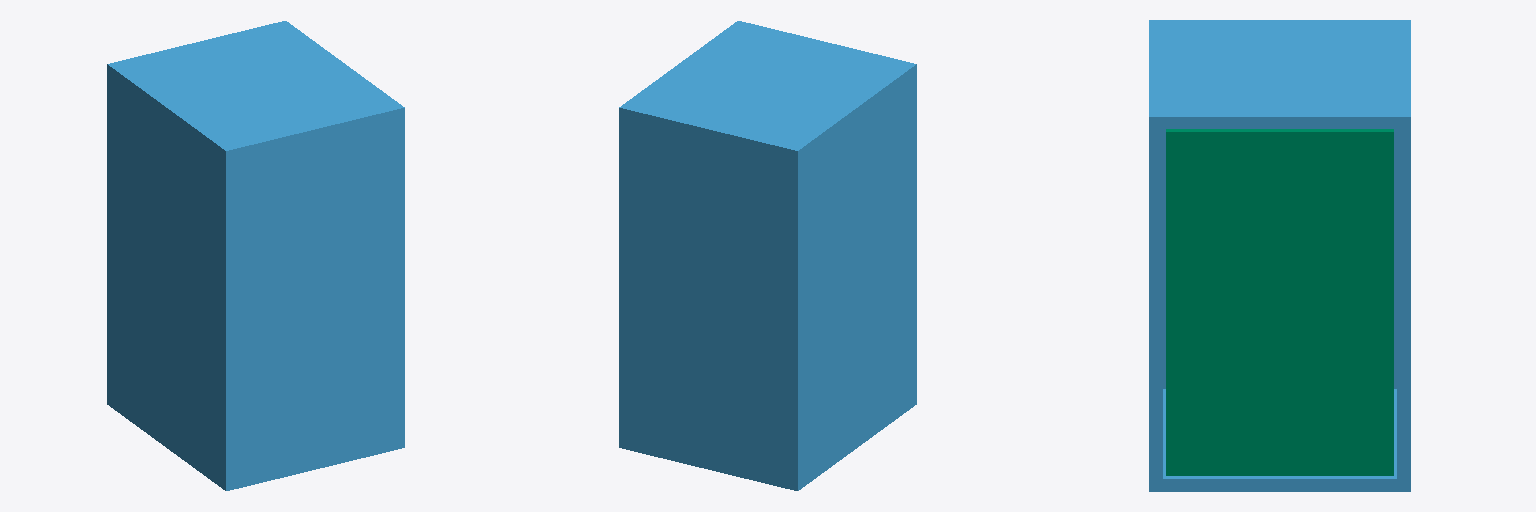
URDF robot description (my_cabinet):
<?xml version="1.0" ?>
<robot name="my_cabinet">
	<link name="world"/>
	<joint name="virtual_joint_cabinet" type="fixed">
		<parent link="world"/>
		<child link="base_cabinet_link"/>
		<origin xyz="0.0 0.0 0.0" rpy="0.0 0.0 0.0"/>
	</joint>
	<link name="base_cabinet_link">
		<visual>
			<origin xyz="0.0 0.0 -0.264" rpy="0.0 0.0 0.0"/>
			<geometry>
				<box size="0.3 0.346 0.018"/>
			</geometry>
		</visual>
		<collision>
			<origin xyz="0.0 0.0 -0.264" rpy="0.0 0.0 0.0"/>
			<geometry>
				<box size="0.3 0.346 0.018"/>
			</geometry>
		</collision>
		<visual>
			<origin xyz="0.0 0.16399999999999998 0.0" rpy="0.0 0.0 0.0"/>
			<geometry>
				<box size="0.3 0.018 0.546"/>
			</geometry>
		</visual>
		<collision>
			<origin xyz="0.0 0.16399999999999998 0.0" rpy="0.0 0.0 0.0"/>
			<geometry>
				<box size="0.3 0.018 0.546"/>
			</geometry>
		</collision>
		<visual>
			<origin xyz="0.0 -0.16399999999999998 0.0" rpy="0.0 0.0 0.0"/>
			<geometry>
				<box size="0.3 0.018 0.546"/>
			</geometry>
		</visual>
		<collision>
			<origin xyz="0.0 -0.16399999999999998 0.0" rpy="0.0 0.0 0.0"/>
			<geometry>
				<box size="0.3 0.018 0.546"/>
			</geometry>
		</collision>
		<visual>
			<origin xyz="0.0 0.0 0.264" rpy="0.0 0.0 0.0"/>
			<geometry>
				<box size="0.3 0.346 0.018"/>
			</geometry>
		</visual>
		<collision>
			<origin xyz="0.0 0.0 0.264" rpy="0.0 0.0 0.0"/>
			<geometry>
				<box size="0.3 0.346 0.018"/>
			</geometry>
		</collision>
		<visual>
			<origin xyz="-0.141 0.0 0.0" rpy="0.0 0.0 0.0"/>
			<geometry>
				<box size="0.018 0.346 0.546"/>
			</geometry>
		</visual>
		<collision>
			<origin xyz="-0.141 0.0 0.0" rpy="0.0 0.0 0.0"/>
			<geometry>
				<box size="0.018 0.346 0.546"/>
			</geometry>
		</collision>
		<inertial>
			<mass value="0.200000"/>
			<inertia ixx="0.006964" ixy="0.0" ixz="0.0" iyy="0.006469" iyz="0.0" izz="0.003495"/>
		</inertial>
	</link>
	<link name="door_link">
		<visual>
			<origin xyz="0.0 0.13999999999999999 0.0"/>
			<geometry>
				<box size="0.018 0.3 0.5"/>
			</geometry>
		</visual>
		<collision>
			<origin xyz="0.0 0.13999999999999999 0.0"/>
			<geometry>
				<box size="0.018 0.3 0.5"/>
			</geometry>
		</collision>
		<inertial>
			<mass value="0.200000"/>
			<inertia ixx="0.005667" ixy="0.0" ixz="0.0" iyy="0.004172" iyz="0.0" izz="0.001505"/>
		</inertial>
	</link>
	<joint name="joint_0" type="revolute">
		<origin xyz="0.141 -0.13999999999999999 0"/>
		<axis xyz="0 0 1"/>
		<parent link="base_cabinet_link"/>
		<child link="door_link"/>
		<limit effort="100" lower="-1.5707963267948966" upper="0" velocity="50"/>
		<dynamics friction="1.5"/>
	</joint>
	<gazebo reference="my_cabinet">
		<material>Gazebo/Blue</material>
	</gazebo>
</robot>

--- Facts derived from the render (not from the file) ---
The picture shows the robot from 3 angles, left to right: view 1: azimuth 30°, elevation 25°; view 2: azimuth 150°, elevation 25°; view 3: azimuth 270°, elevation 25°; orthographic projection.
Model my_cabinet with 3 links and 2 joints (1 revolute, 1 fixed), rooted at world, posed all joints at 0.
Links seen in each view (by area): view 1: base_cabinet_link; view 2: base_cabinet_link; view 3: door_link, base_cabinet_link.
Boxes of the visible links, bbox=[...] form: base_cabinet_link: bbox=[107, 21, 404, 490]; base_cabinet_link: bbox=[619, 21, 916, 490]; door_link: bbox=[1166, 129, 1393, 475]; base_cabinet_link: bbox=[1149, 20, 1410, 491].
Size in the robot's own frame: 0.3 by 0.346 by 0.546 metres.
Geometry: primitives only (box / cylinder / sphere), no mesh files.